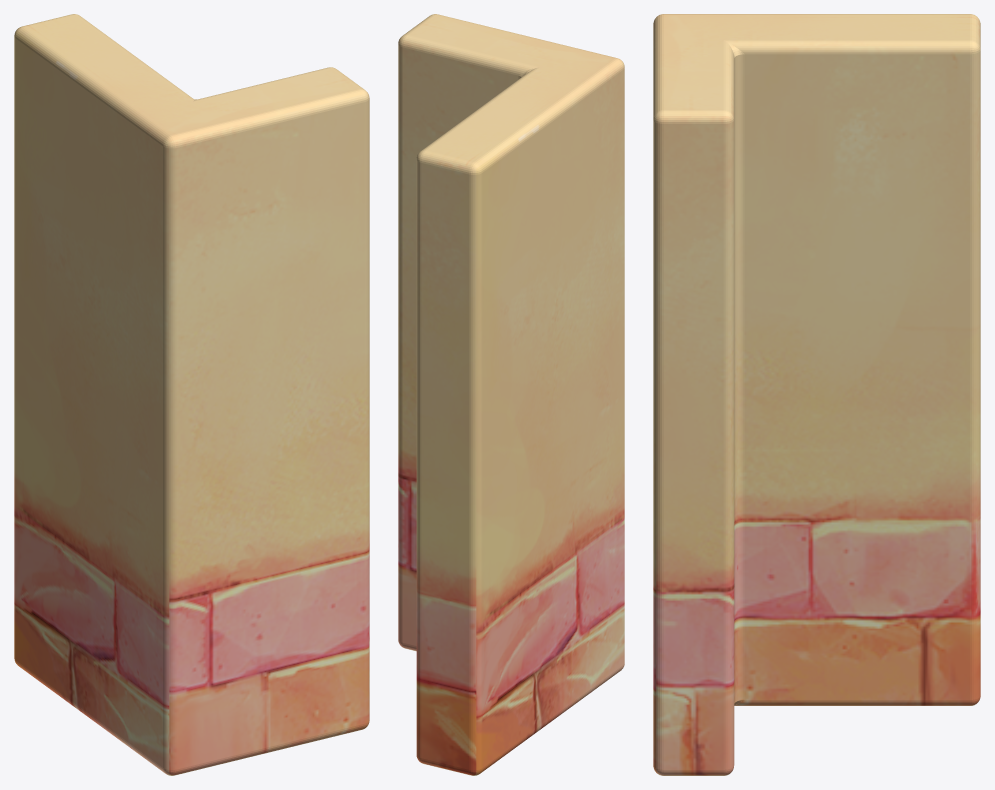
The model's file is Pared_corner_izq_front.fbx.
The picture shows the model from 3 angles, left to right: view 1: azimuth 30°, elevation 25°; view 2: azimuth 150°, elevation 25°; view 3: azimuth 270°, elevation 25°; orthographic projection. The views are drawn at different scales.
Parts seen in each view (by area): view 1: Pared_corner_izq._frontal; view 2: Pared_corner_izq._frontal; view 3: Pared_corner_izq._frontal.
Boxes of the visible parts, x1,y1,x2,y2 form: Pared_corner_izq._frontal: (14,14,369,775); Pared_corner_izq._frontal: (398,14,624,775); Pared_corner_izq._frontal: (653,14,980,775).
Bounding box in the file's own units: 302 × 900 × 401.
